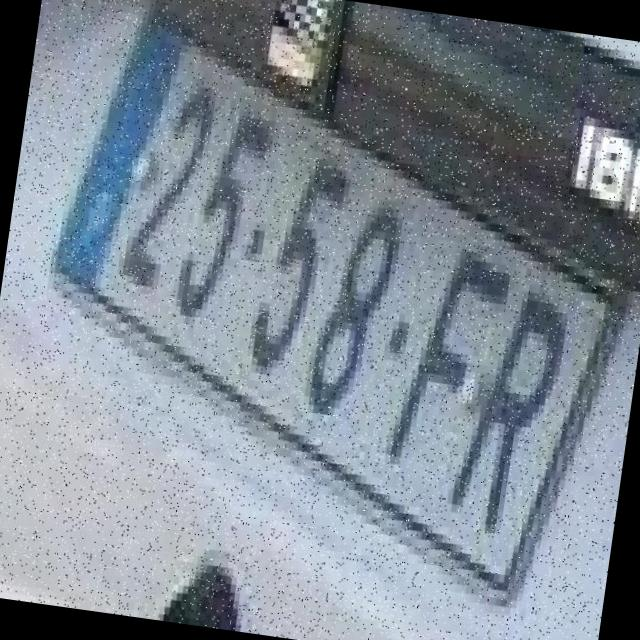LicensePlate: (11, 0, 640, 628)
